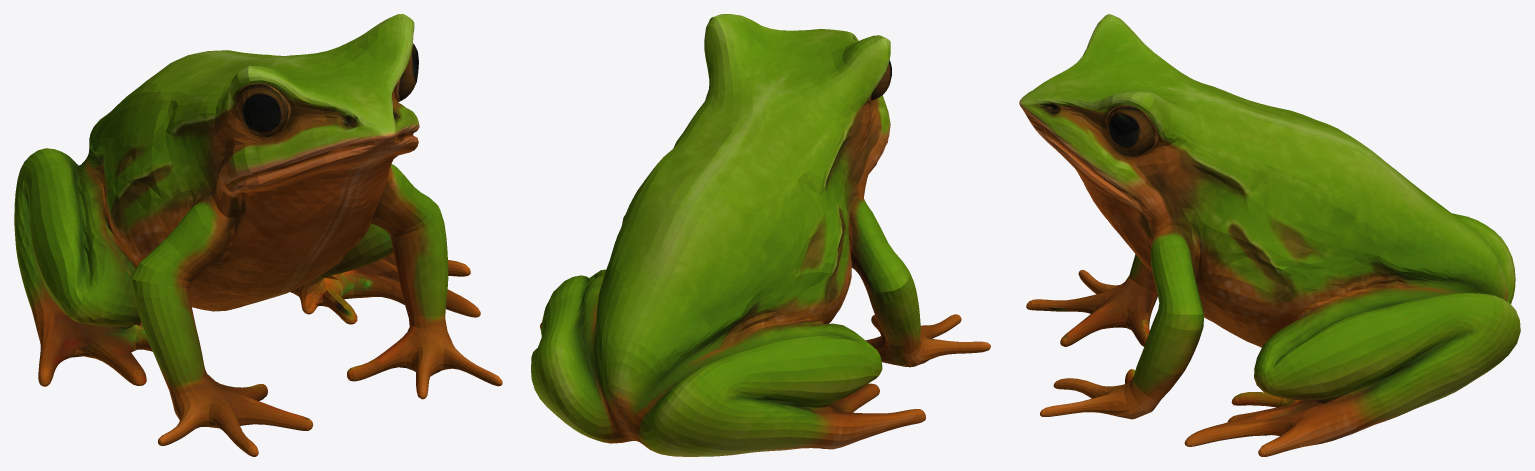
File: ranita_darwin.glb
3 views of the same model, side by side, from view 1: azimuth 30°, elevation 25°; view 2: azimuth 150°, elevation 25°; view 3: azimuth 270°, elevation 25° (orthographic). The views are drawn at different scales.
Visible parts, largest first — view 1: tripo_node_63c420d5-991c-46ce-9571-c4b4ba571327; view 2: tripo_node_63c420d5-991c-46ce-9571-c4b4ba571327; view 3: tripo_node_63c420d5-991c-46ce-9571-c4b4ba571327.
Boxes of the visible parts, left/top/right/bottom form: tripo_node_63c420d5-991c-46ce-9571-c4b4ba571327: left=14, top=14, right=502, bottom=456; tripo_node_63c420d5-991c-46ce-9571-c4b4ba571327: left=531, top=14, right=990, bottom=456; tripo_node_63c420d5-991c-46ce-9571-c4b4ba571327: left=1019, top=14, right=1520, bottom=456.
Size of the model in its own units: 0.899 by 0.7111 by 0.9989.
1 material, 1 textured.
